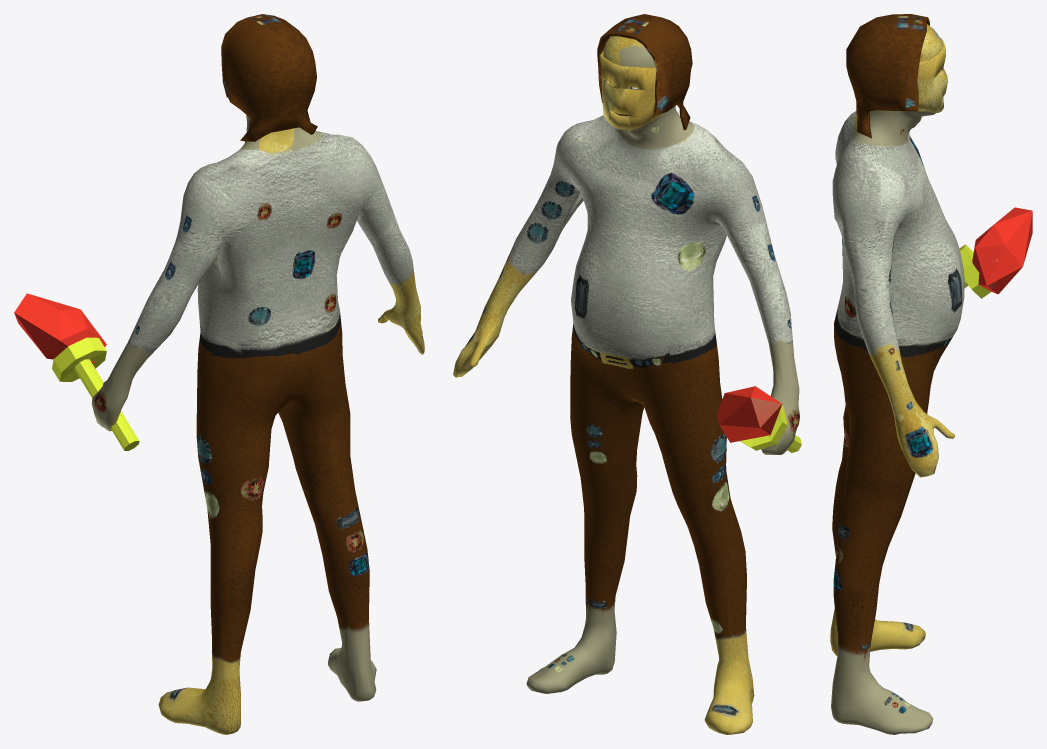
The model's file is WindSpirit.fbx.
3 views of the same model, side by side, from view 1: azimuth 30°, elevation 25°; view 2: azimuth 150°, elevation 25°; view 3: azimuth 270°, elevation 25° (orthographic). The views are drawn at different scales.
Visible parts, largest first — view 1: ManaPriestMesh; view 2: ManaPriestMesh, GoldMask; view 3: ManaPriestMesh, GoldMask.
Part boxes in pixels (x1=…): ManaPriestMesh: x1=14, y1=14, x2=424, y2=734; ManaPriestMesh: x1=453, y1=14, x2=801, y2=734; GoldMask: x1=599, y1=50, x2=663, y2=129; ManaPriestMesh: x1=830, y1=14, x2=1032, y2=734; GoldMask: x1=917, y1=37, x2=947, y2=112.
Bounding box in the file's own units: 3.14 × 1.52 × 5.54.
2 materials, 2 textured.
